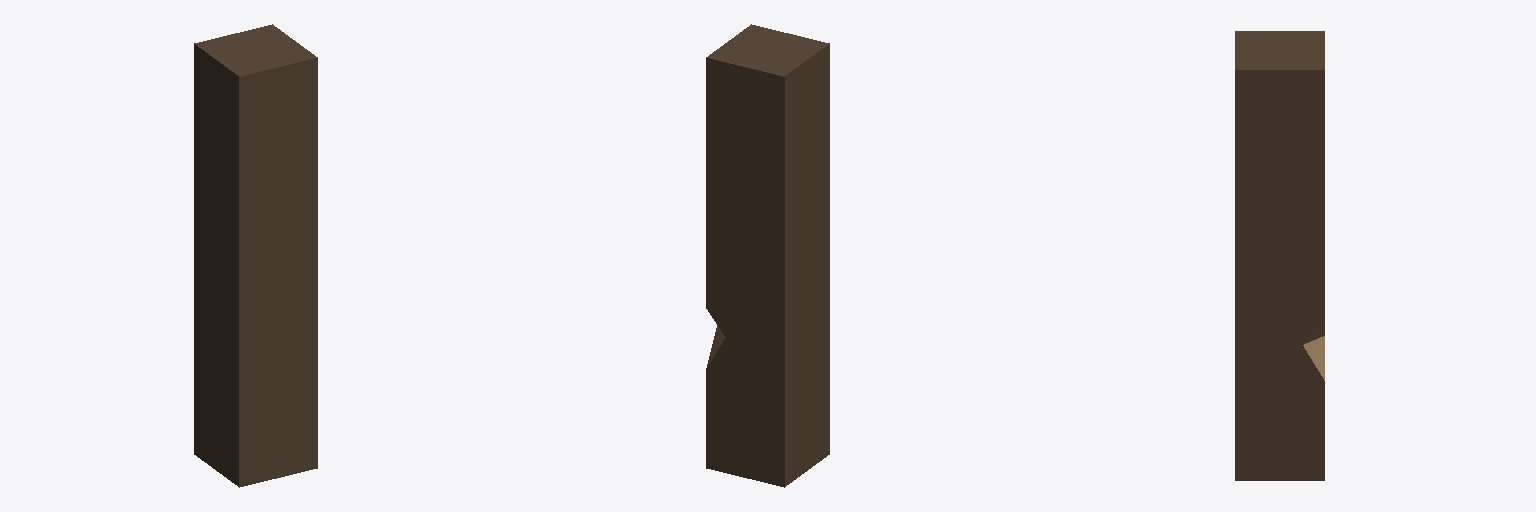
Rendered from Stucco_Prop_Support_Pillar_3.obj.
3 views of the same model, side by side, from view 1: azimuth 30°, elevation 25°; view 2: azimuth 150°, elevation 25°; view 3: azimuth 270°, elevation 25° (orthographic).
Parts seen in each view (by area): view 1: object1; view 2: object1; view 3: object1.
Part boxes in pixels (bbox=[...]): object1: bbox=[194, 24, 317, 487]; object1: bbox=[706, 24, 829, 487]; object1: bbox=[1235, 31, 1324, 480].
Bounding box in the file's own units: 0.2 × 1 × 0.2.